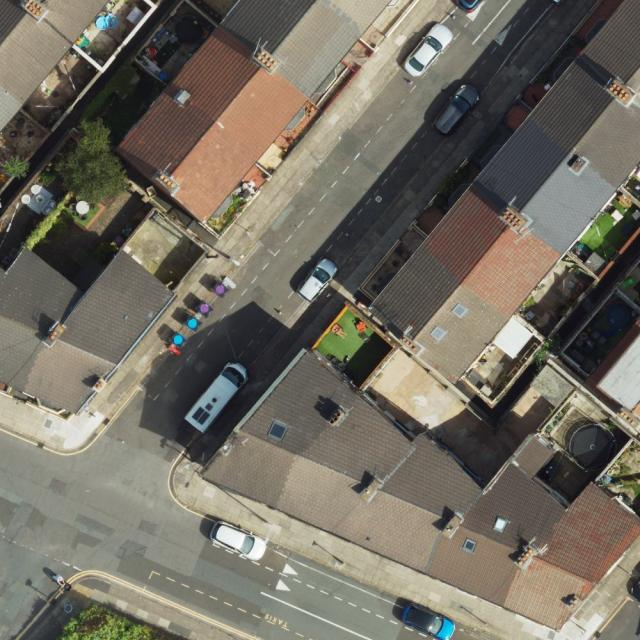roof: (200, 348, 640, 632), (374, 0, 640, 385), (118, 0, 391, 223), (0, 245, 178, 413), (0, 0, 109, 131)
skylight: (266, 418, 290, 441), (491, 514, 510, 533), (430, 325, 448, 343), (462, 535, 479, 554), (451, 303, 469, 320)
